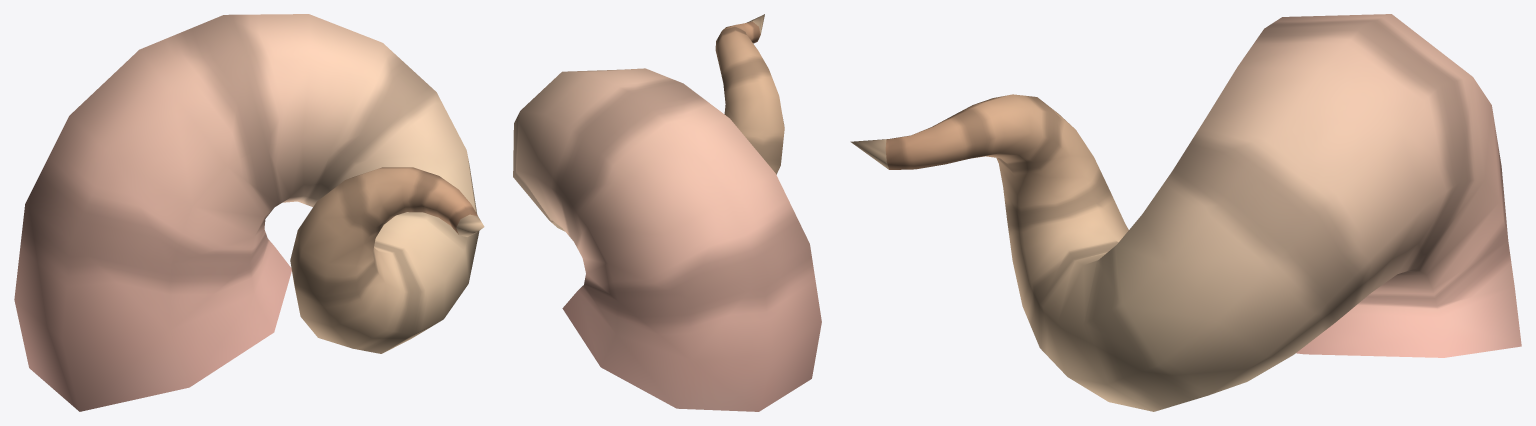
The model's file is Shell_Conch_01.fbx.
3 renders of one model, left to right at view 1: azimuth 30°, elevation 25°; view 2: azimuth 150°, elevation 25°; view 3: azimuth 270°, elevation 25°, orthographic. The views are drawn at different scales.
Parts seen in each view (by area): view 1: Shell_Conch_01; view 2: Shell_Conch_01; view 3: Shell_Conch_01.
Part boxes in pixels (left/top/right/bottom): Shell_Conch_01: left=14, top=14, right=484, bottom=411; Shell_Conch_01: left=513, top=14, right=821, bottom=411; Shell_Conch_01: left=850, top=14, right=1521, bottom=411.
Bounding box in the file's own units: 0.2595 × 0.2127 × 0.3252.
1 material, 1 textured.
